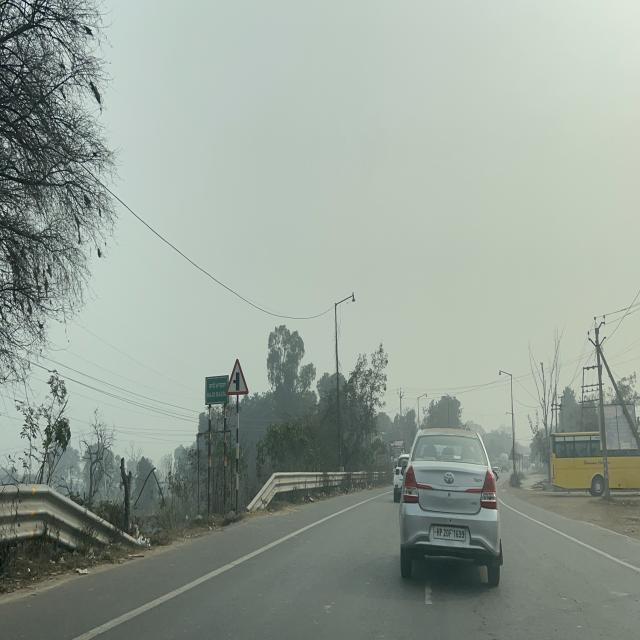SIDE_ROAD_LEFT: (224, 356, 250, 395)
